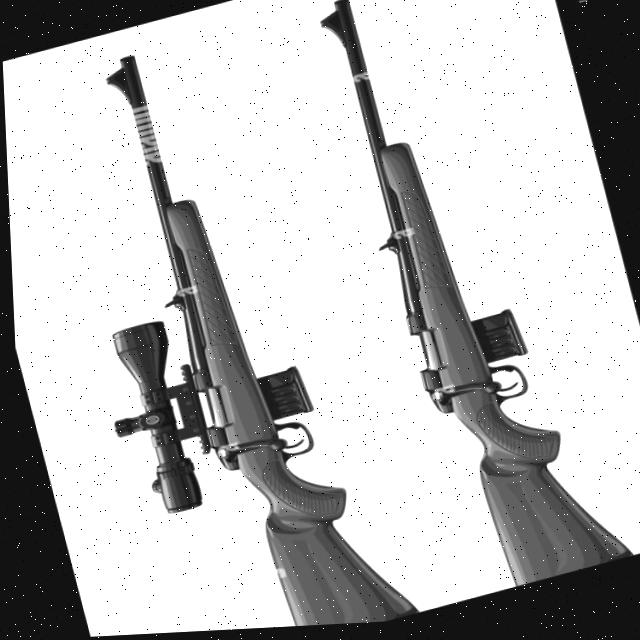firearm: (18, 15, 415, 639), (305, 0, 633, 611)
